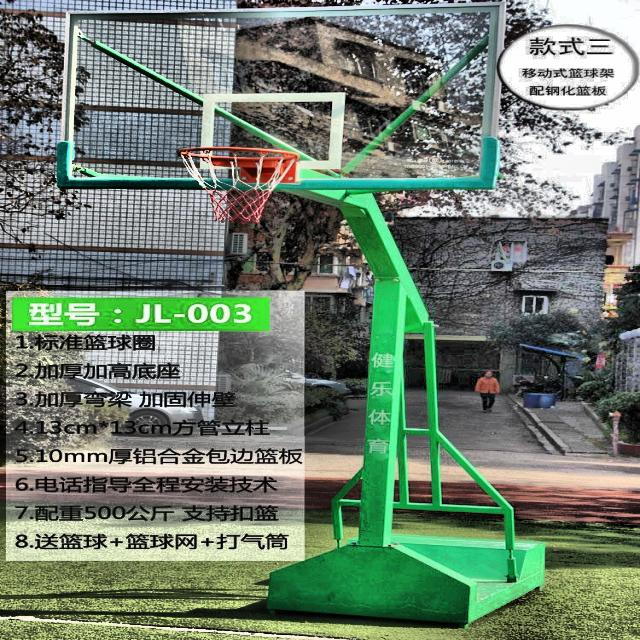rim: (174, 145, 299, 222)
